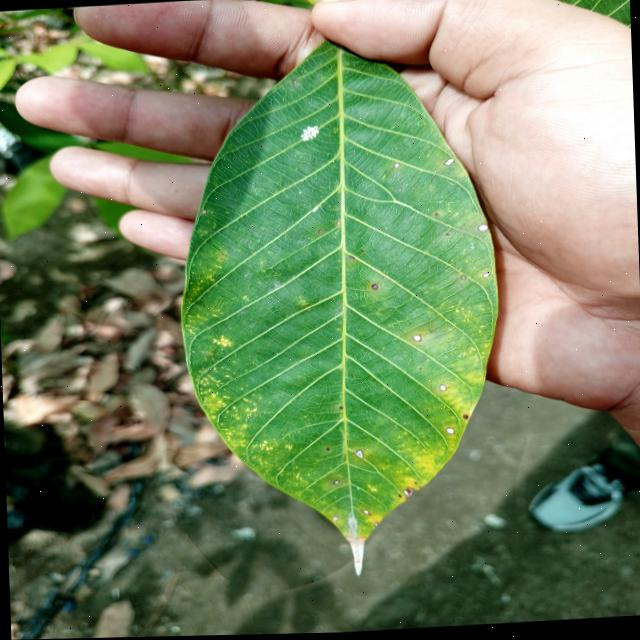Colletotrichum: (355, 450, 363, 459), (477, 226, 487, 233), (446, 429, 454, 437), (412, 336, 421, 343), (439, 386, 446, 394), (370, 285, 378, 292), (482, 274, 490, 280), (402, 491, 408, 497), (394, 164, 399, 170), (331, 517, 338, 521), (460, 277, 466, 281), (292, 81, 298, 85), (334, 481, 339, 485), (463, 416, 468, 420), (349, 257, 354, 261), (318, 230, 322, 234), (336, 223, 340, 227)
Leaf-Blight: (344, 537, 368, 578)
